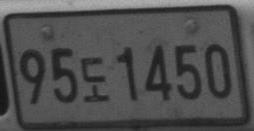0: (203, 42, 232, 99)
1: (114, 46, 142, 100)
4: (143, 43, 172, 100)
5: (50, 46, 79, 104), (174, 44, 202, 100)
9: (18, 47, 46, 105)
도: (80, 56, 110, 103)
